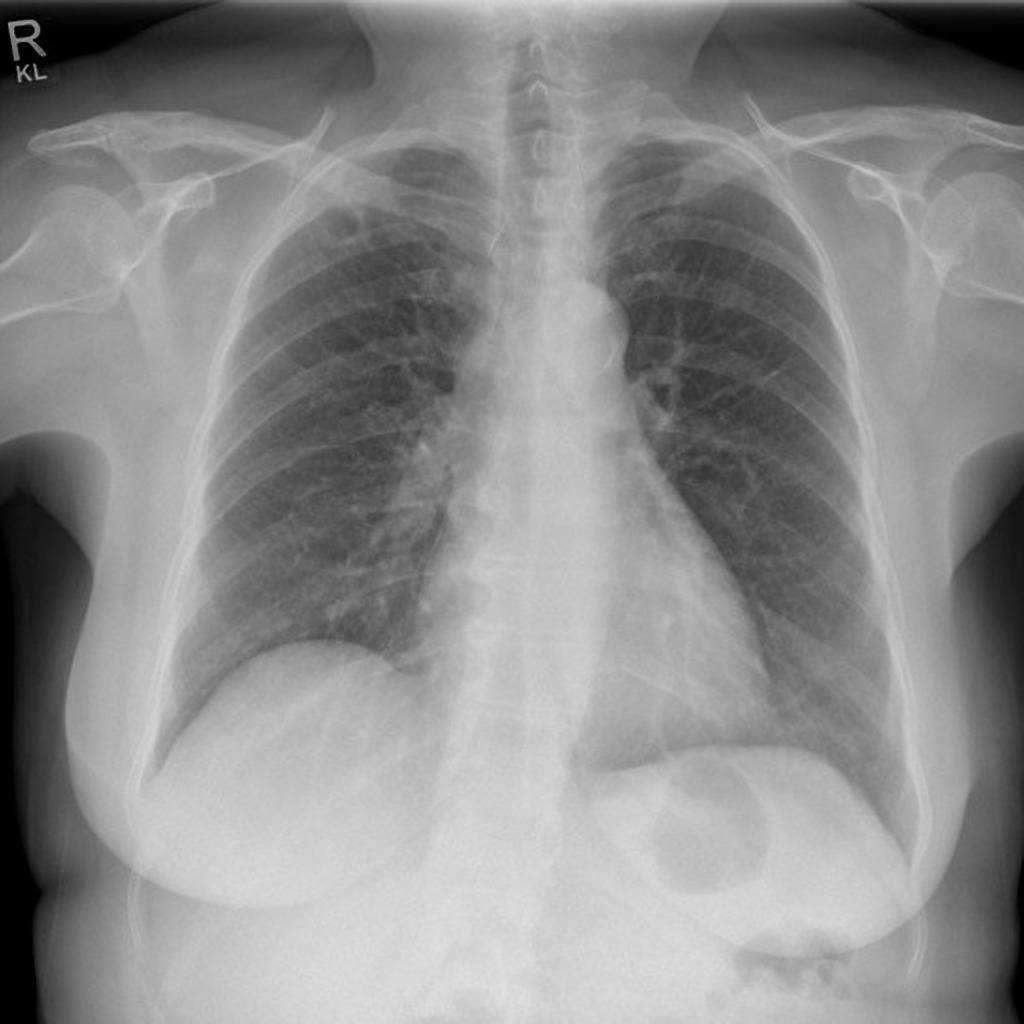cancer: (239, 239, 493, 622)
